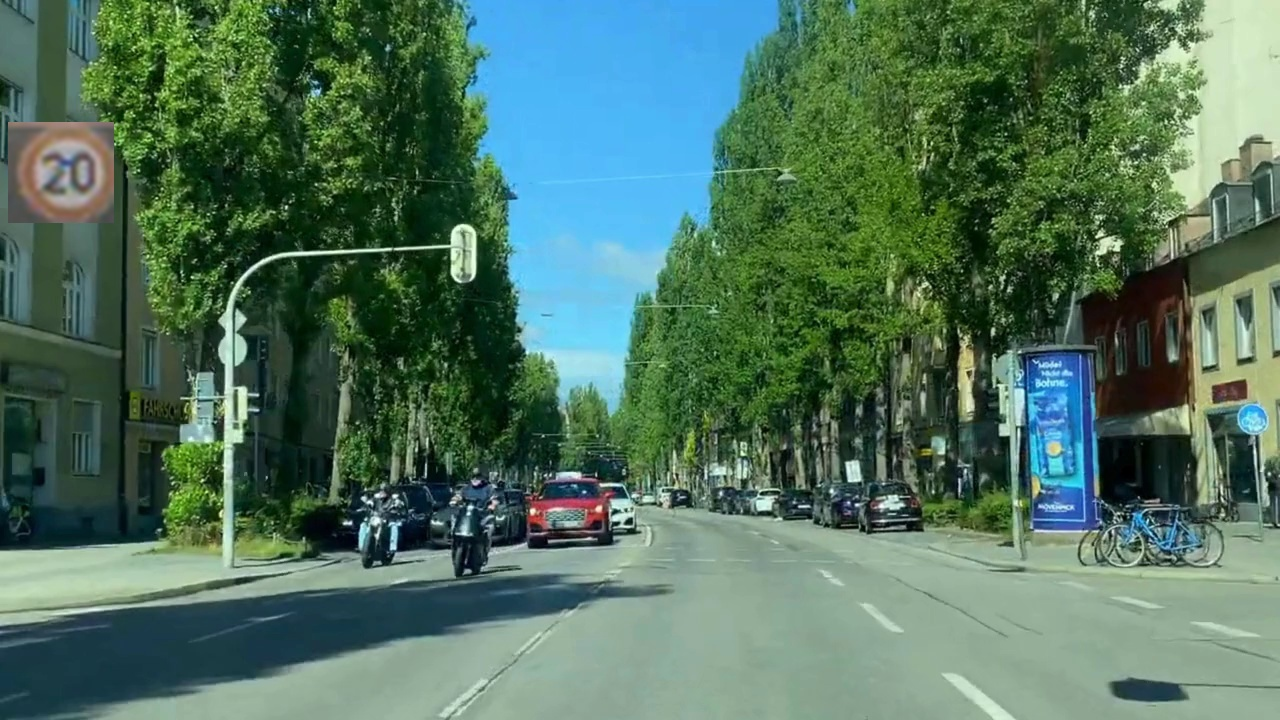Speed 20: (8, 122, 114, 223)
